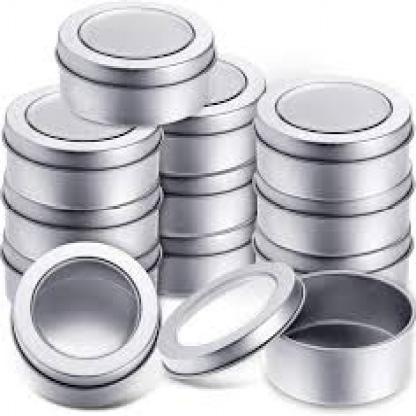METAL: (12, 237, 159, 385), (252, 78, 413, 212), (262, 268, 412, 402), (3, 84, 160, 202), (53, 6, 213, 120), (155, 261, 303, 377), (250, 167, 412, 272), (158, 52, 264, 186), (0, 186, 159, 264), (12, 330, 155, 408), (3, 245, 157, 315), (254, 249, 407, 317), (158, 173, 254, 249), (157, 247, 254, 295)
